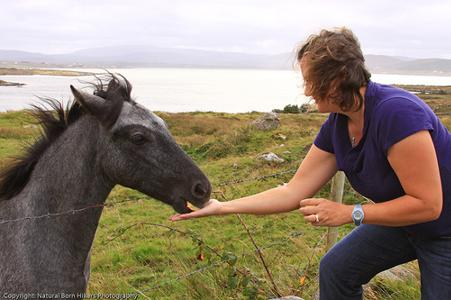person: (167, 29, 451, 300)
